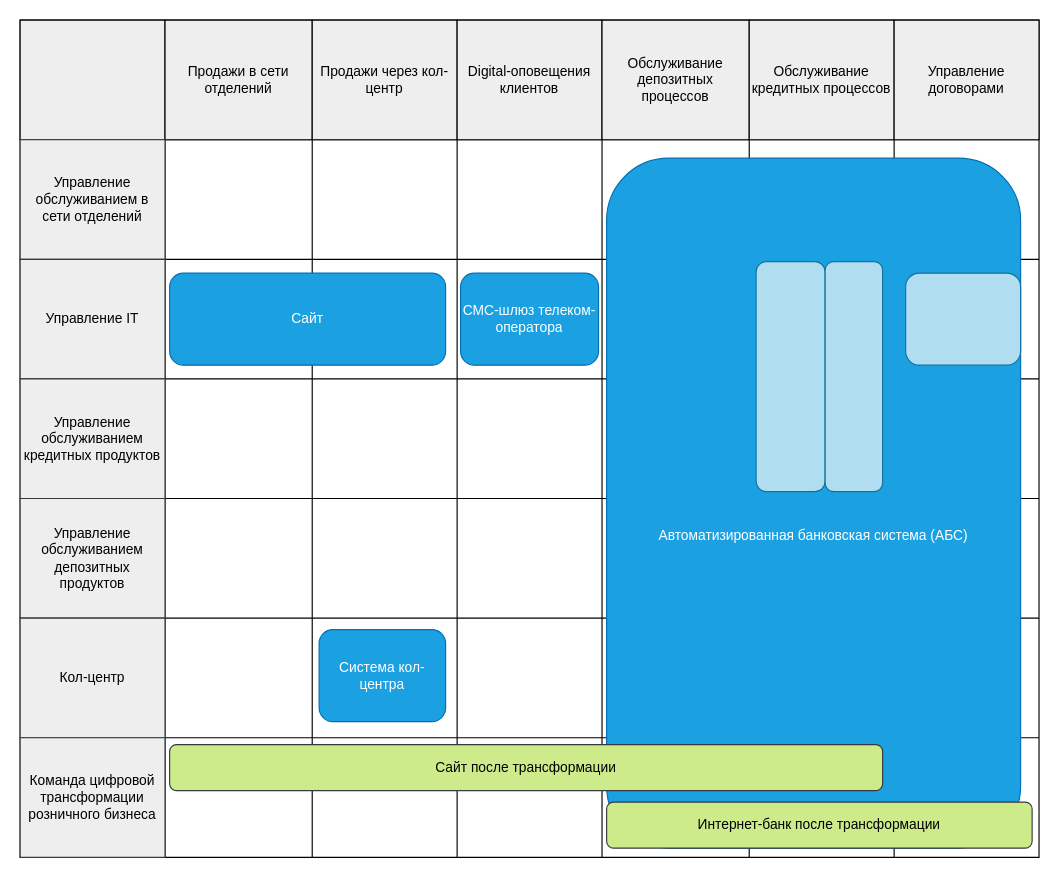
Image size: 1059x877. Some labels were removed from this diagram. Here are the shapes that lost their labels. From the top down, the centre of each, then its label:
the point at 962,318: Интернет-банк
the point at 790,376: Система кредитного скоринга
the point at 853,376: Кредитный конвейер
